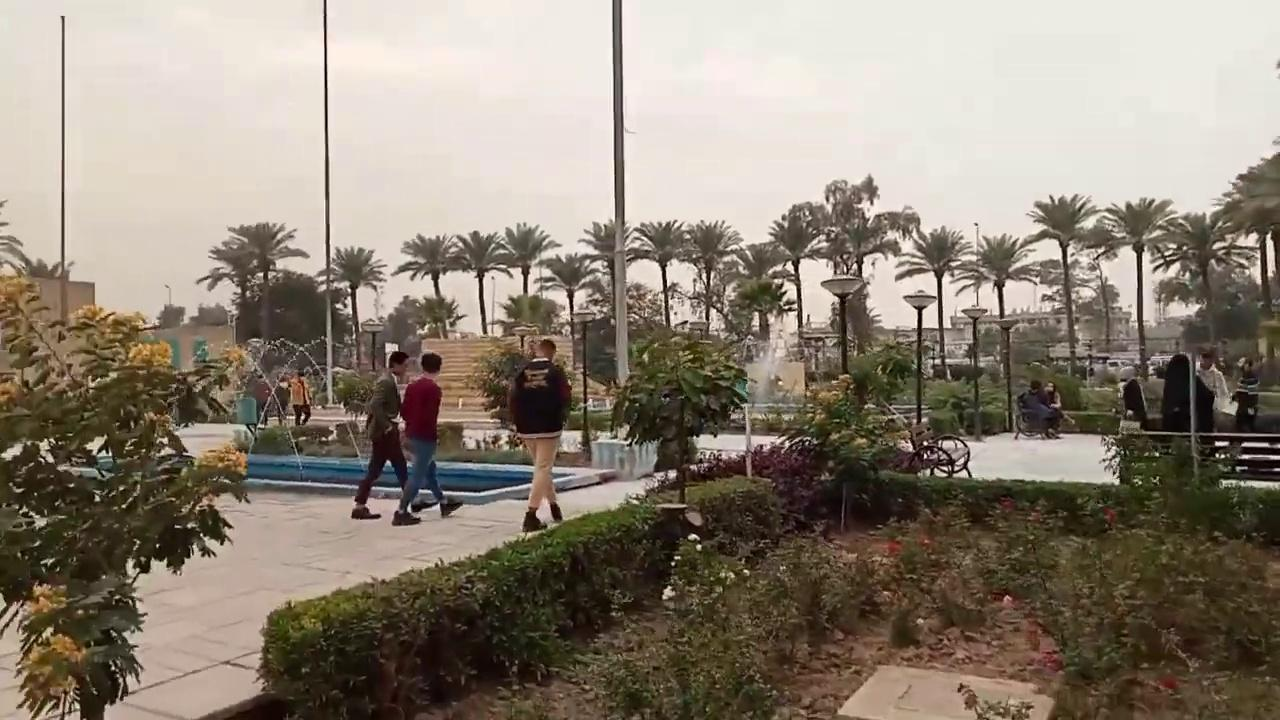car: (577, 396, 614, 413)
fountain: (182, 331, 634, 502), (217, 332, 374, 479), (729, 335, 810, 431)
person: (506, 338, 572, 531), (391, 351, 463, 525), (350, 350, 423, 520), (1194, 347, 1229, 457), (1018, 379, 1062, 438), (1118, 366, 1148, 431), (289, 368, 312, 426)
tree: (0, 272, 251, 718), (803, 172, 918, 358), (608, 326, 750, 474), (1149, 210, 1257, 350), (1020, 191, 1099, 377), (1098, 195, 1177, 377), (974, 231, 1038, 430), (893, 224, 972, 379), (1211, 150, 1279, 317), (221, 220, 309, 347), (826, 210, 901, 354), (766, 205, 825, 355), (321, 244, 387, 369), (534, 251, 601, 369), (390, 232, 464, 338), (195, 240, 263, 346), (681, 218, 742, 336), (626, 218, 691, 328), (448, 228, 513, 335), (722, 241, 790, 341), (497, 220, 559, 329), (577, 217, 637, 324), (1075, 221, 1120, 354), (975, 231, 1036, 319), (499, 292, 558, 334), (415, 293, 466, 338), (383, 295, 420, 351)
